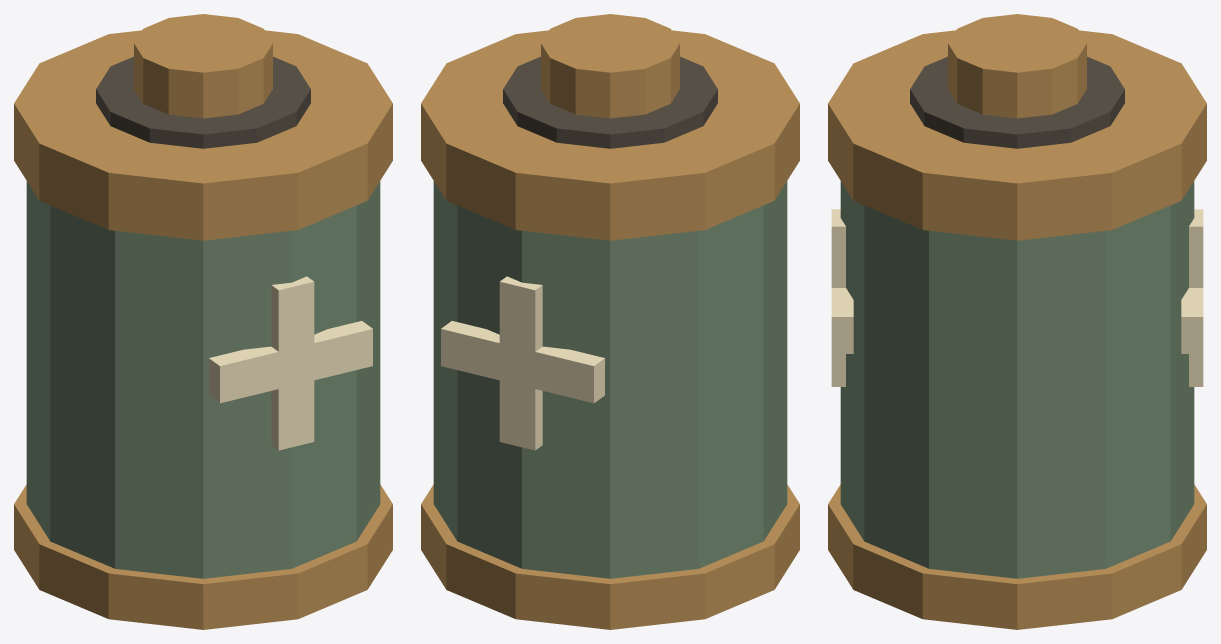
The model's file is battery.glb.
3 views of the same model, side by side, from view 1: azimuth 30°, elevation 25°; view 2: azimuth 150°, elevation 25°; view 3: azimuth 270°, elevation 25° (orthographic).
Parts seen in each view (by area): view 1: Casing, Upper rim, Lower rim, Positive terminal, Insulator, Plus horizontal, Plus vertical; view 2: Casing, Upper rim, Lower rim, Positive terminal, Insulator, Plus horizontal.001, Plus vertical.001; view 3: Casing, Upper rim, Lower rim, Positive terminal, Insulator, Plus vertical, Plus vertical.001, Plus horizontal, Plus horizontal.001.
Part boxes in pixels (x1,y1,x2,y2): Casing: (26, 181, 380, 578); Upper rim: (14, 30, 392, 240); Lower rim: (14, 484, 392, 629); Positive terminal: (134, 14, 272, 118); Insulator: (96, 56, 310, 148); Plus horizontal: (209, 321, 372, 403); Plus vertical: (271, 276, 314, 450); Casing: (433, 181, 787, 578); Upper rim: (421, 30, 799, 240); Lower rim: (421, 484, 799, 629); Positive terminal: (541, 14, 679, 118); Insulator: (503, 56, 717, 148); Plus horizontal.001: (441, 321, 604, 403); Plus vertical.001: (499, 276, 542, 450); Casing: (840, 181, 1194, 578); Upper rim: (828, 30, 1206, 240); Lower rim: (828, 484, 1206, 629); Positive terminal: (948, 14, 1086, 118); Insulator: (910, 56, 1124, 148); Plus vertical: (831, 209, 845, 386); Plus vertical.001: (1189, 209, 1203, 386); Plus horizontal: (831, 288, 853, 353); Plus horizontal.001: (1181, 288, 1203, 353).
Bounding box in the file's own units: 0.6 × 0.885 × 0.6.
